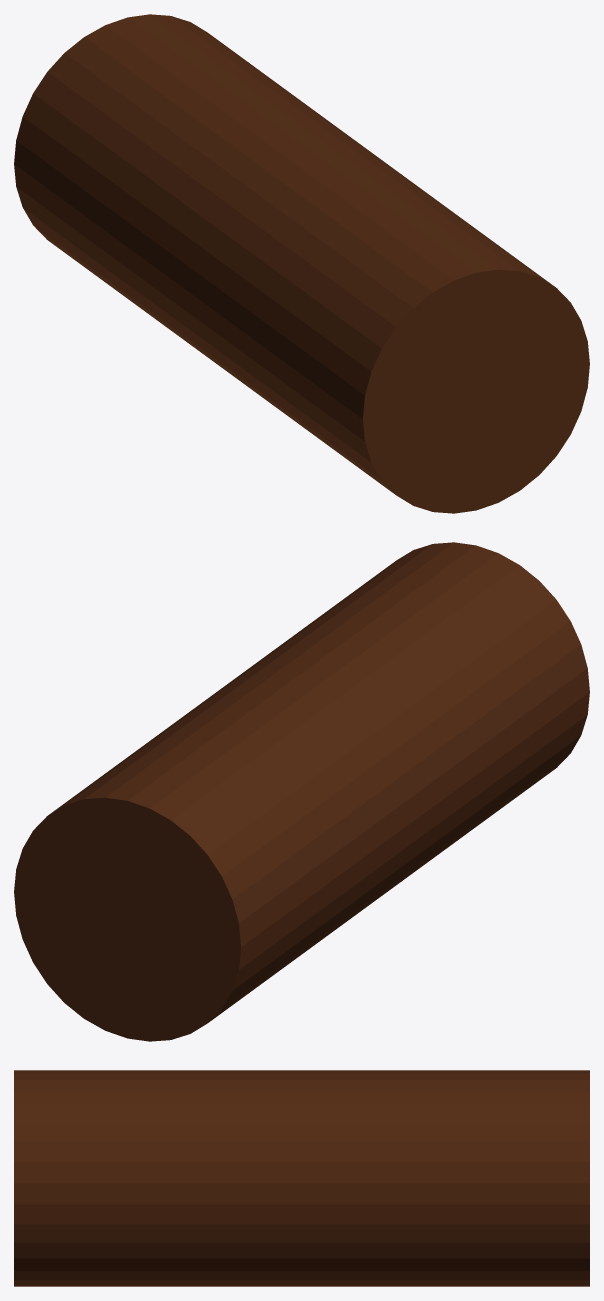
The model's file is can_coffee.obj.
3 views of the same model, one above another, from view 1: azimuth 30°, elevation 25°; view 2: azimuth 150°, elevation 25°; view 3: azimuth 270°, elevation 25° (orthographic). The views are drawn at different scales.
Visible parts, largest first — view 1: can_coffee; view 2: can_coffee; view 3: can_coffee.
Part boxes in pixels (<box>): can_coffee: <box>14,14,589,513</box>; can_coffee: <box>14,542,589,1041</box>; can_coffee: <box>14,1070,589,1286</box>.
Bounding box in the file's own units: 0.05 × 0.05 × 0.133.
